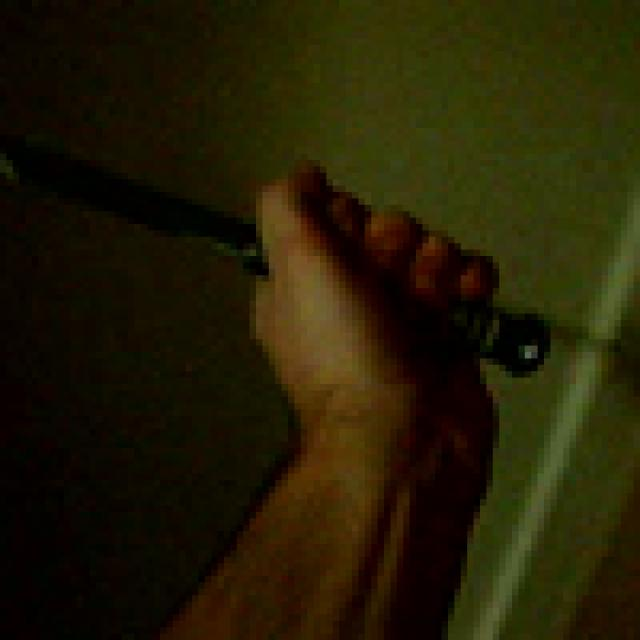Knife: (26, 134, 550, 378)
